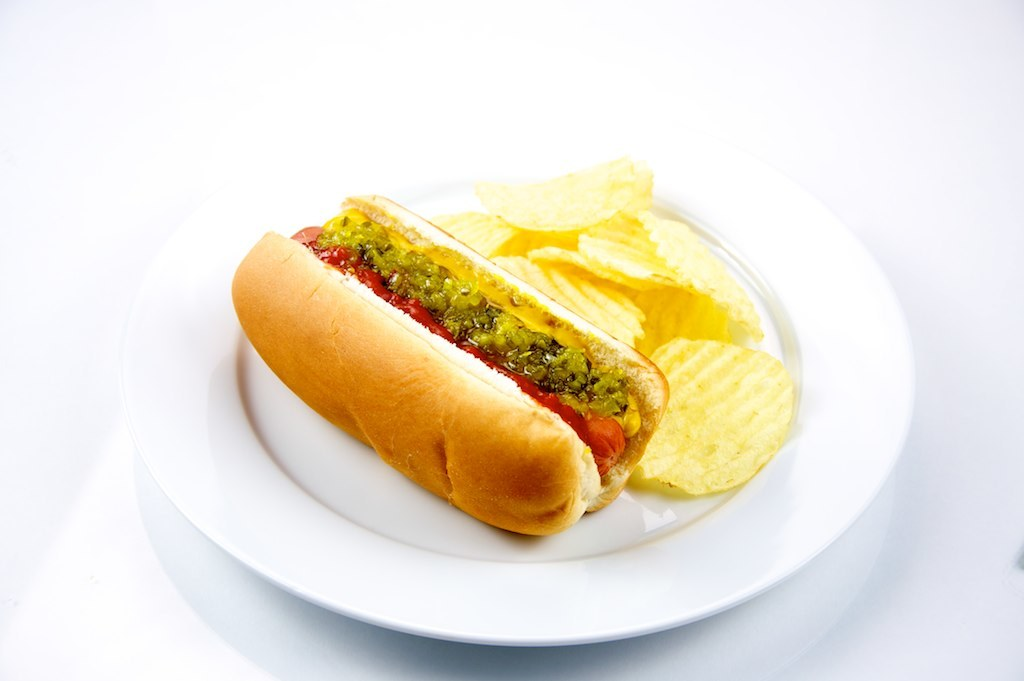hot_dog: (217, 187, 667, 547)
